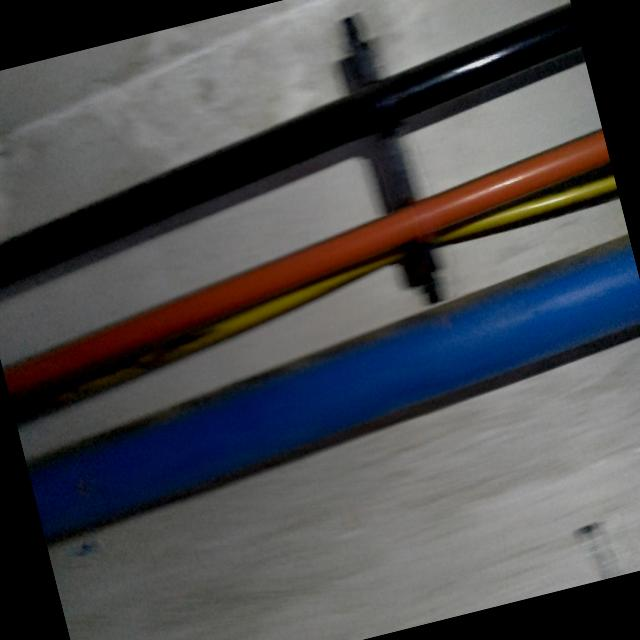gas: (26, 234, 640, 545), (0, 4, 582, 299), (6, 127, 608, 402)
